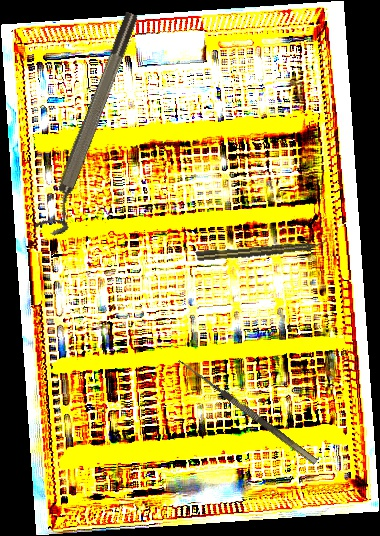Fixation Ring: (34, 9, 152, 240)
Handpiece: (195, 238, 327, 263)
Hook Surgical: (171, 356, 319, 473)
